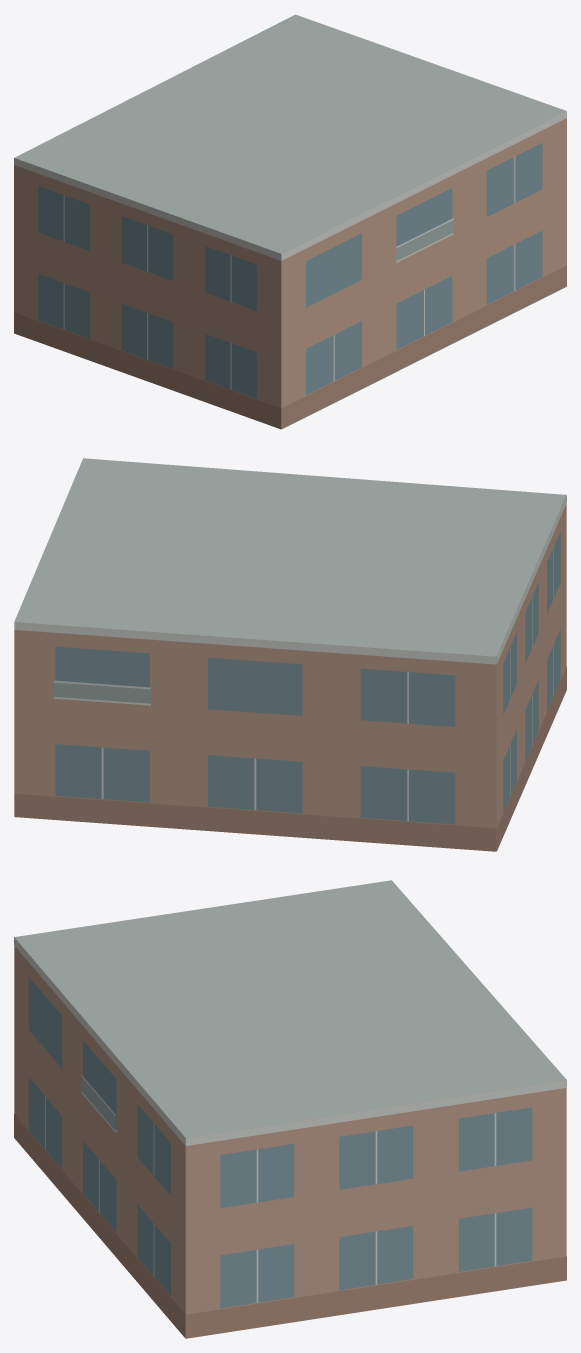
Rendered from survey-upis-32849942.glb.
3 views of the same model, one above another, from view 1: azimuth 30°, elevation 25°; view 2: azimuth 150°, elevation 25°; view 3: azimuth 270°, elevation 25° (orthographic). The views are drawn at different scales.
Parts seen in each view (by area): view 1: survey-upis-32849942.tmp; view 2: survey-upis-32849942.tmp; view 3: survey-upis-32849942.tmp.
Boxes of the visible parts, x1,y1,x2,y2 form: survey-upis-32849942.tmp: (14,14,566,429); survey-upis-32849942.tmp: (14,458,566,851); survey-upis-32849942.tmp: (14,880,566,1338).
Size of the model in its own units: 16.83 by 6.1 by 15.24.
